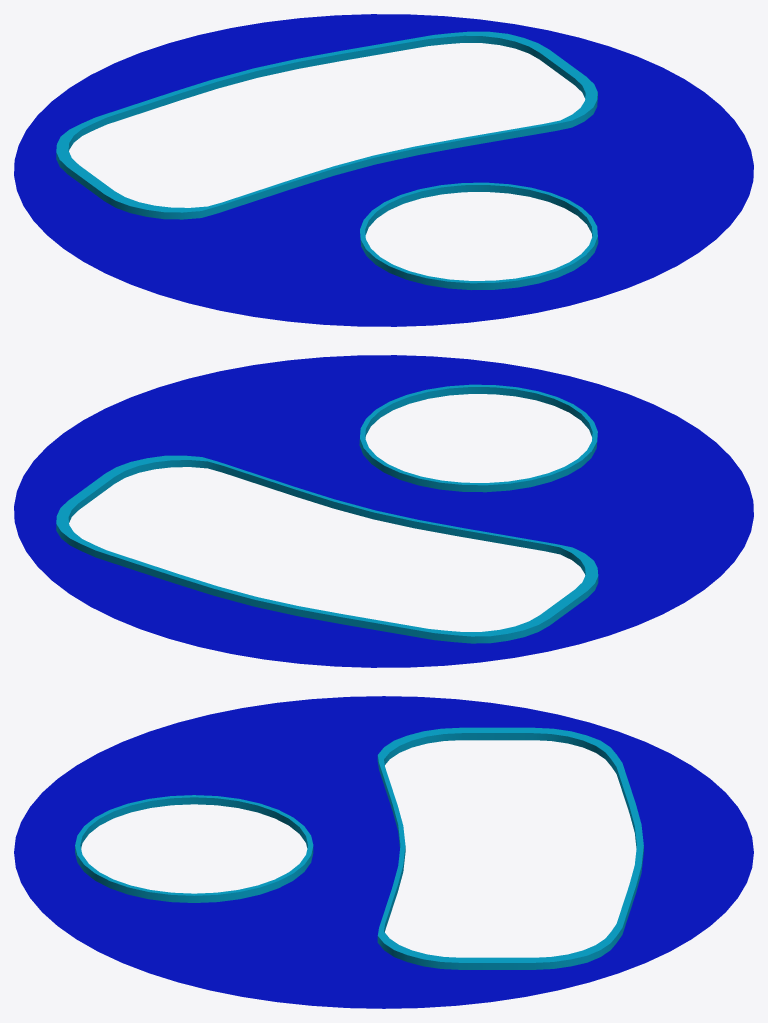
Rendered from 01-Gauge-Front-Cover-Bevel.fbx.
The picture shows the model from 3 angles, top to bottom: view 1: azimuth 30°, elevation 25°; view 2: azimuth 150°, elevation 25°; view 3: azimuth 270°, elevation 25°; orthographic projection.
Parts seen in each view (by area): view 1: 01-Gauge-Front-Cover-Bevel; view 2: 01-Gauge-Front-Cover-Bevel; view 3: 01-Gauge-Front-Cover-Bevel.
Part boxes in pixels (x1,y1,x2,y2): 01-Gauge-Front-Cover-Bevel: [14, 14, 753, 326]; 01-Gauge-Front-Cover-Bevel: [14, 355, 753, 667]; 01-Gauge-Front-Cover-Bevel: [14, 696, 753, 1008].
Bounding box in the file's own units: 197 × 2.06 × 197.
